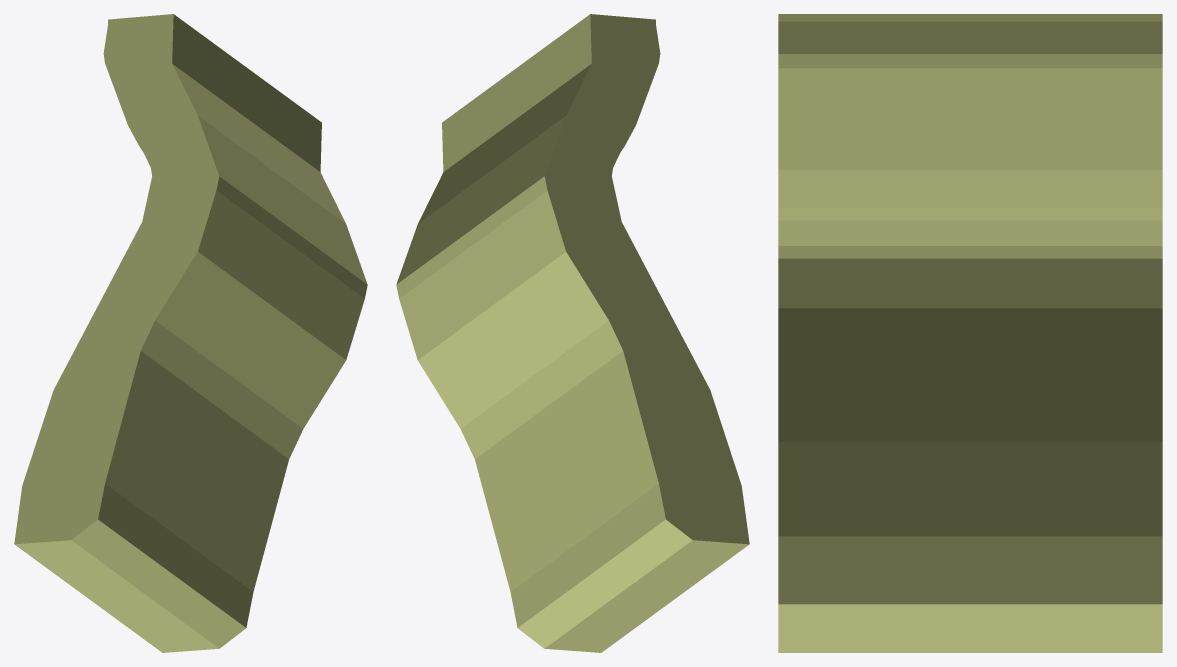
3 renders of one model, left to right at view 1: azimuth 30°, elevation 25°; view 2: azimuth 150°, elevation 25°; view 3: azimuth 270°, elevation 25°, orthographic. The views are drawn at different scales.
Visible parts, largest first — view 1: 0_0_1_3_2_2_3_3_0; view 2: 0_0_1_3_2_2_3_3_0; view 3: 0_0_1_3_2_2_3_3_0.
Part boxes in pixels (x1=…): 0_0_1_3_2_2_3_3_0: x1=14, y1=14, x2=367, y2=652; 0_0_1_3_2_2_3_3_0: x1=396, y1=14, x2=749, y2=652; 0_0_1_3_2_2_3_3_0: x1=778, y1=14, x2=1162, y2=652.
Bounding box in the file's own units: 7.18 × 17.12 × 9.
